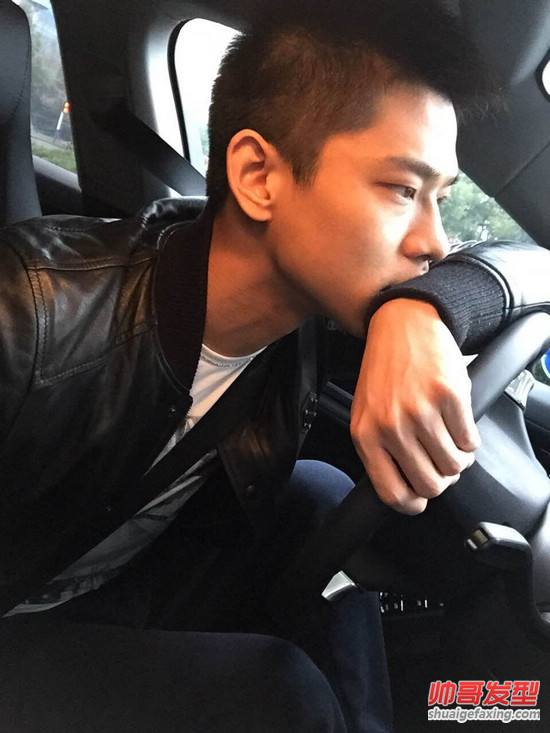person: (81, 1, 519, 537)
